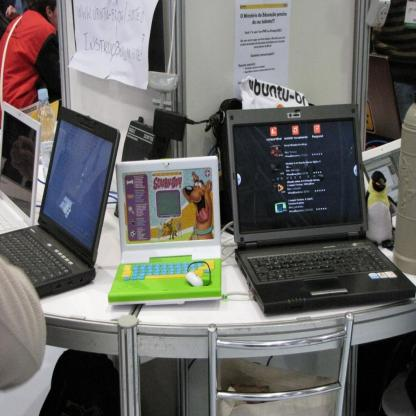board: (219, 95, 406, 335), (0, 105, 122, 301), (109, 158, 223, 306), (0, 101, 41, 233), (368, 51, 400, 143)
